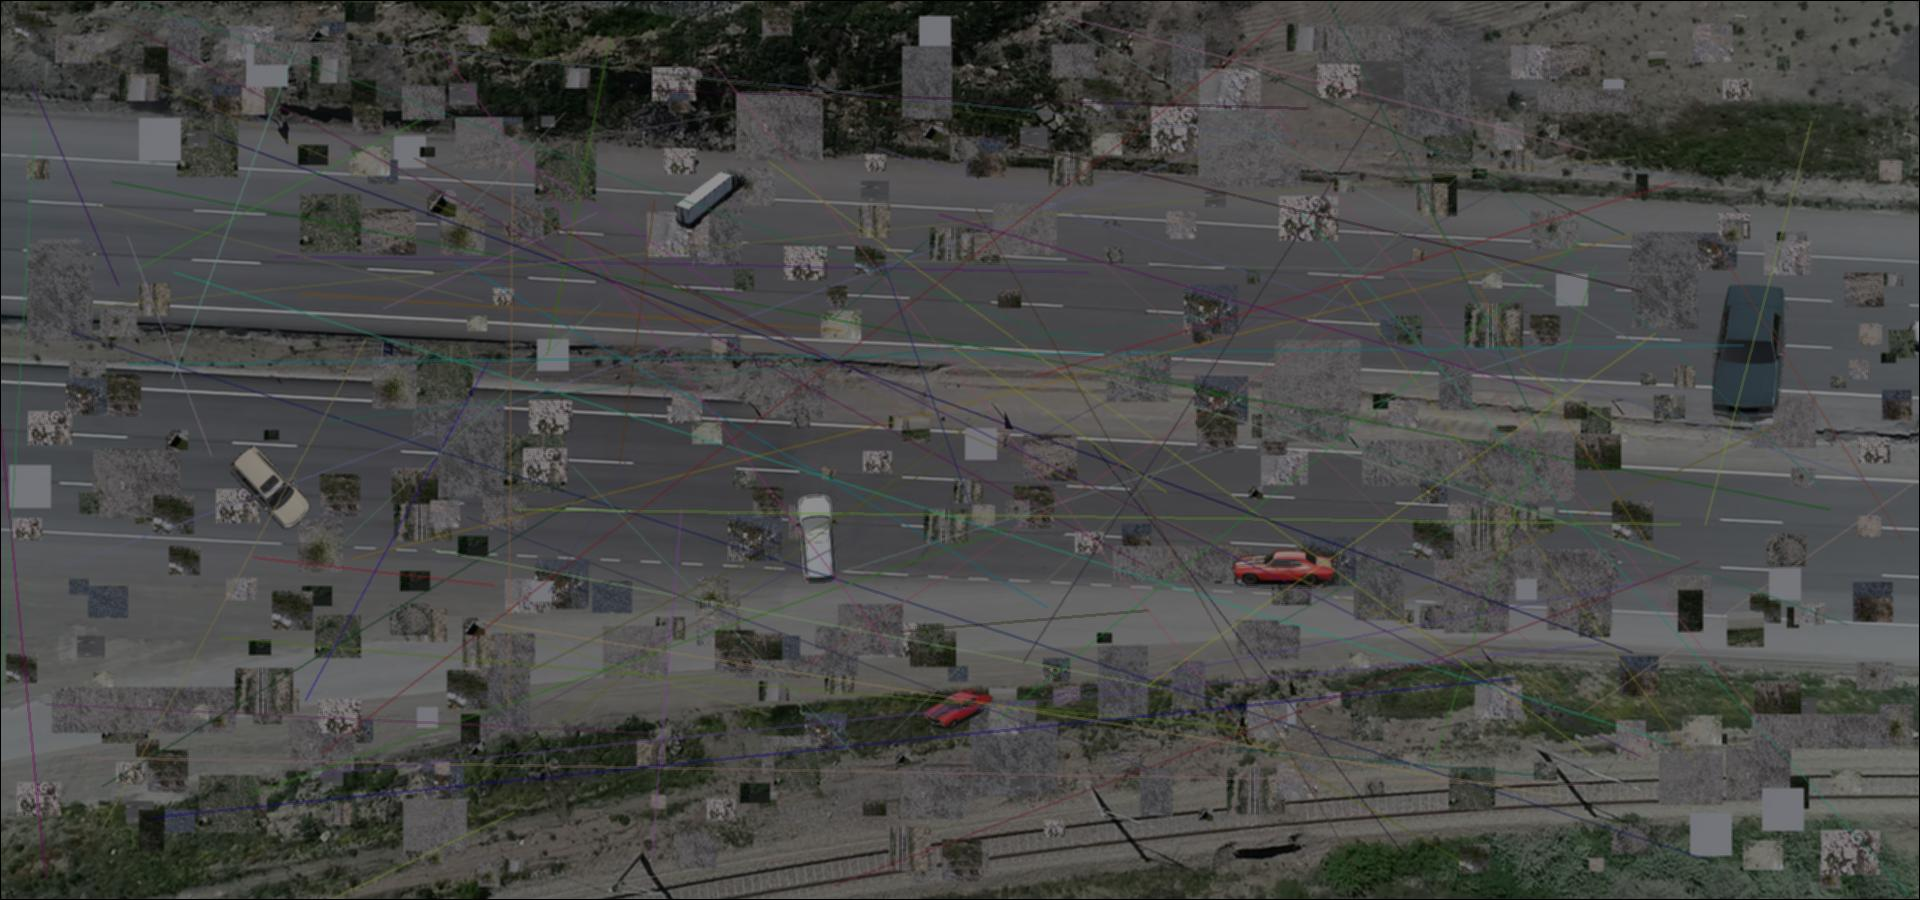arac: (1712, 283, 1789, 422), (230, 440, 311, 529), (791, 492, 842, 585), (671, 169, 746, 229), (1228, 547, 1337, 588), (921, 689, 994, 729)
